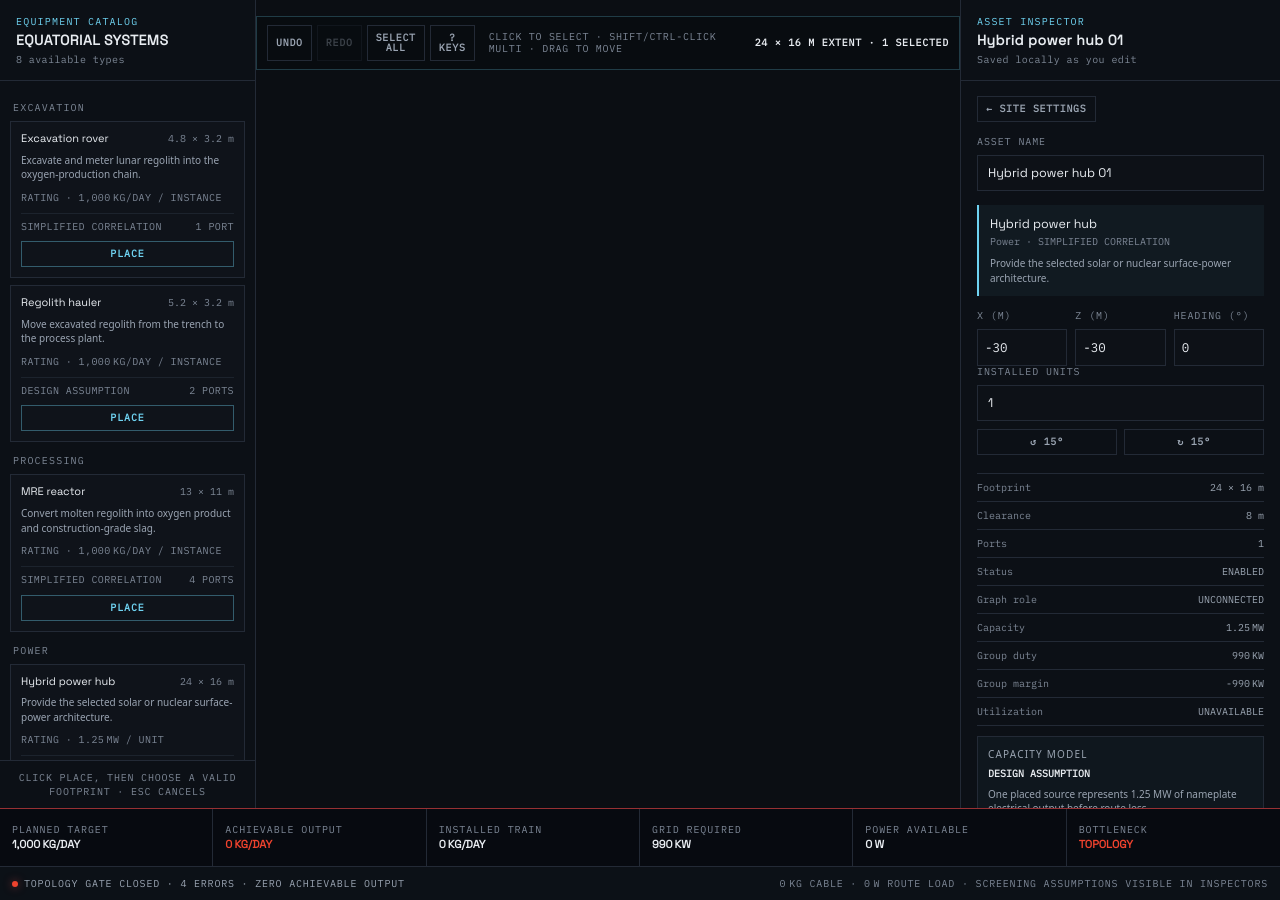
custom site workspace › edits the installed-unit count for a bank-rated asset
Replace the text in the number field labelled "INSTALLED UNITS" with "2" at {"x": 1120, "y": 403}, box [977,384,1264,421]
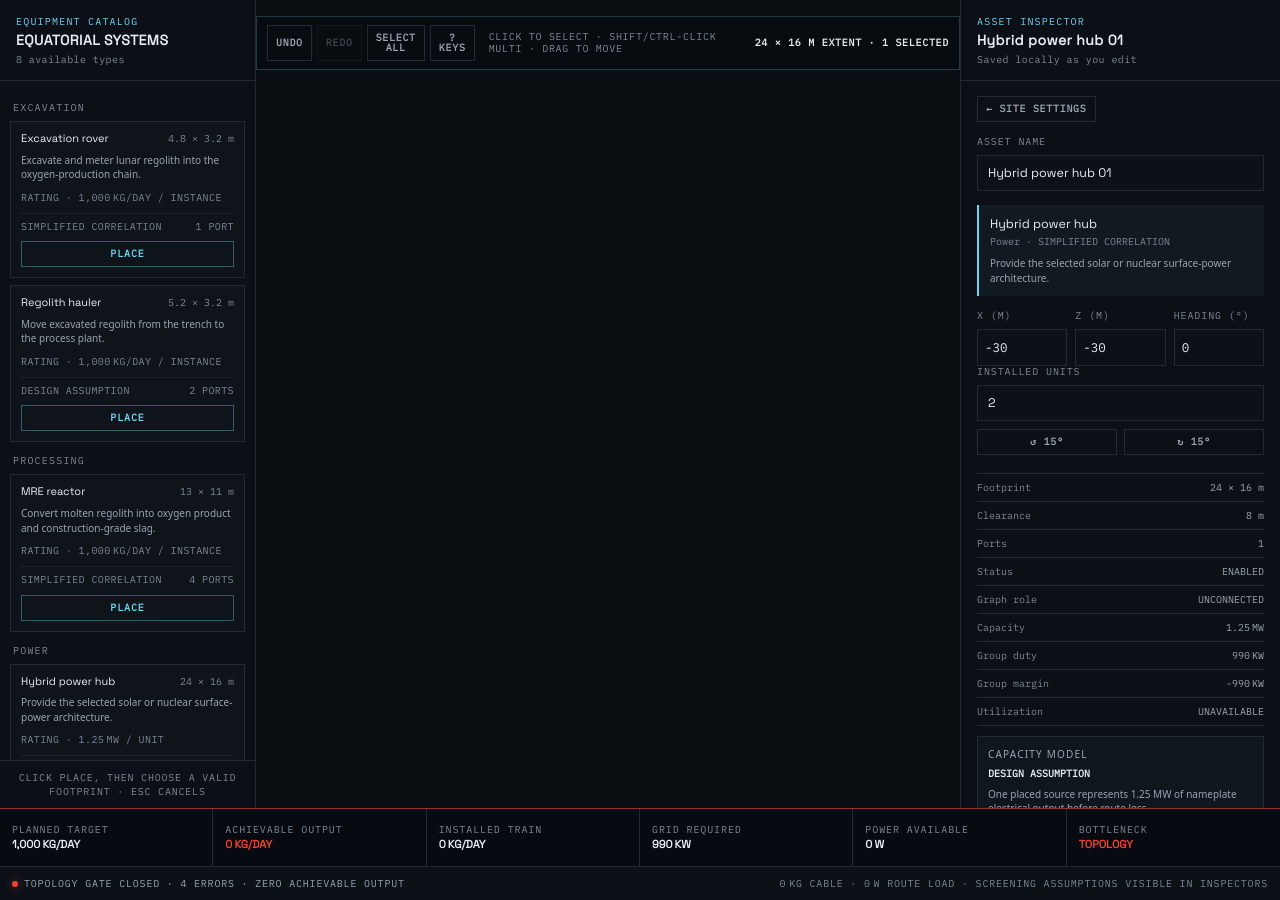
Leave the number field labelled "INSTALLED UNITS", box [977,384,1264,421]
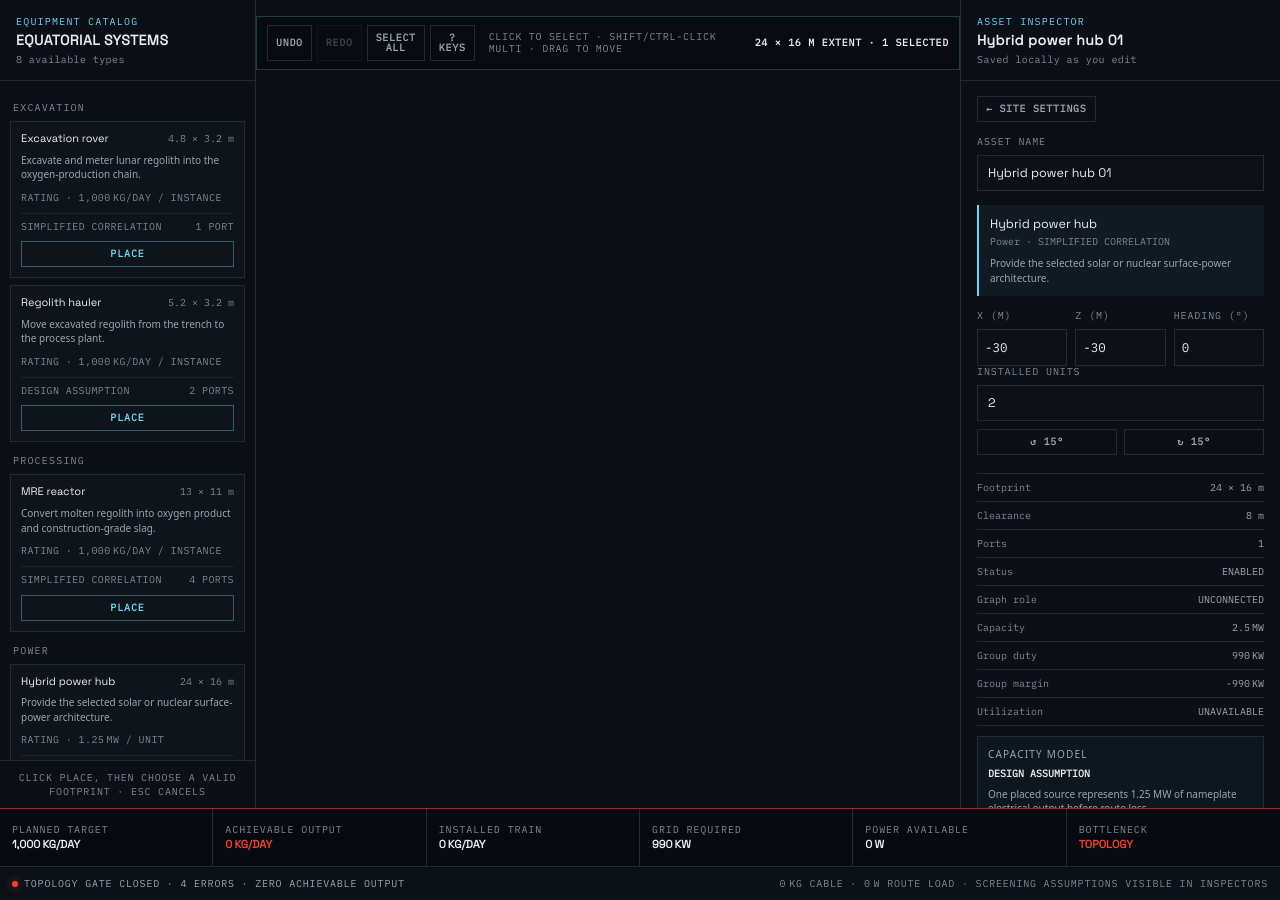
Result: the element named "Custom site inspector" shows "2.5" at [1232,621,1264,634]
